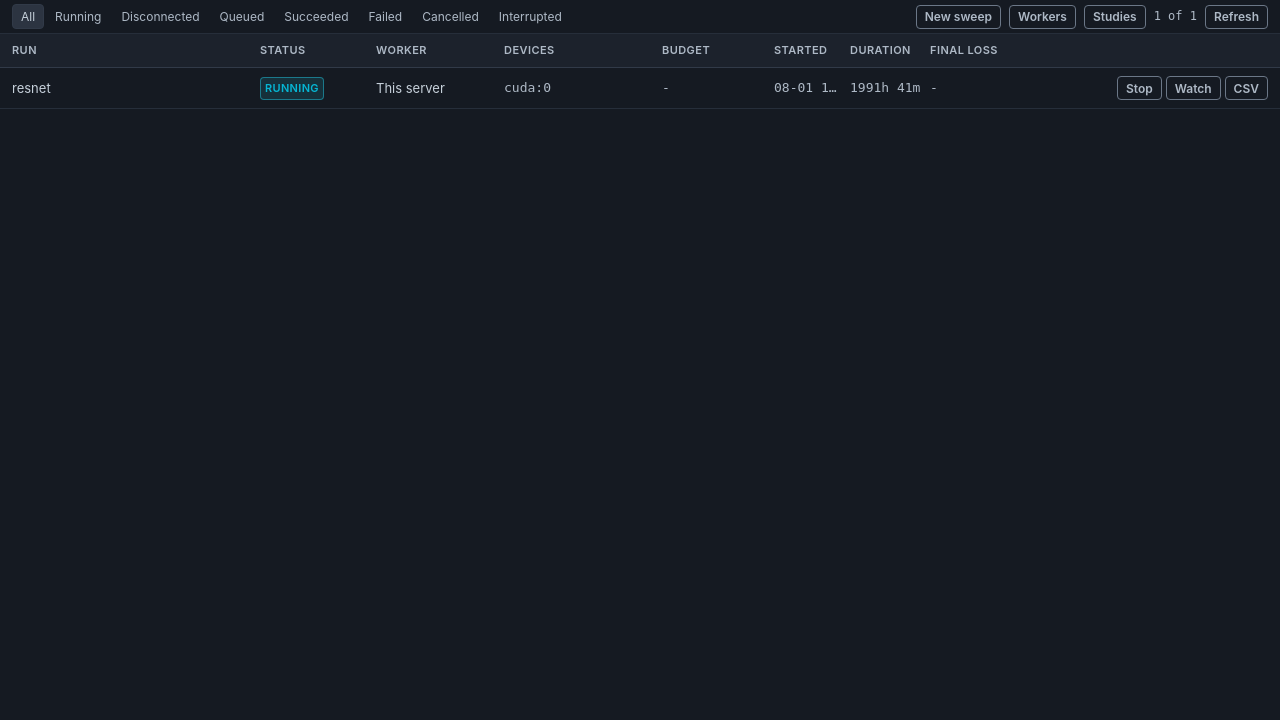
Test: RunsPanel — detail view › shows the empty states when a run recorded nothing
Expected: the text "resnet" is shown, x1=12 y1=80 x2=51 y2=96
Click the button with aria-label "resnet — Running".
click(31, 88)  # box x1=0 y1=68 x2=1279 y2=109
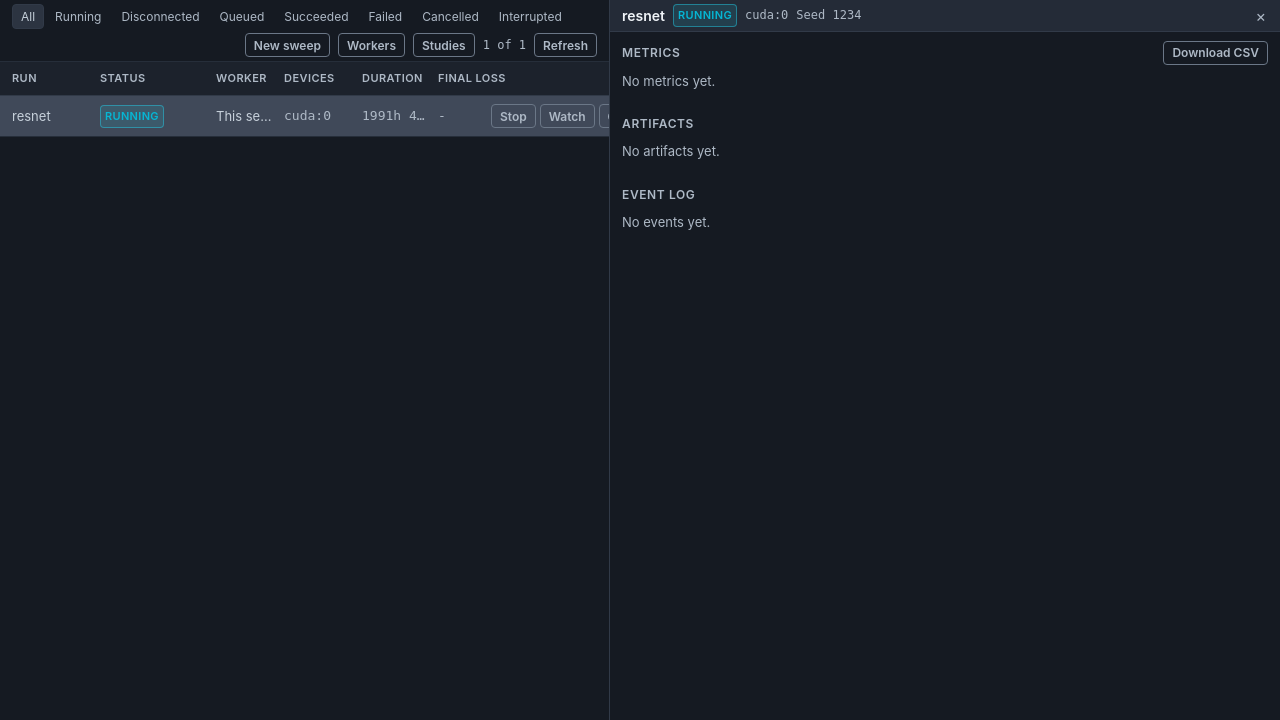
Expected: the text "No metrics yet." is shown, x1=622 y1=73 x2=715 y2=89
Expected: the text "No artifacts yet." is shown, x1=622 y1=143 x2=720 y2=159
Expected: the text "No events yet." is shown, x1=622 y1=214 x2=710 y2=230
